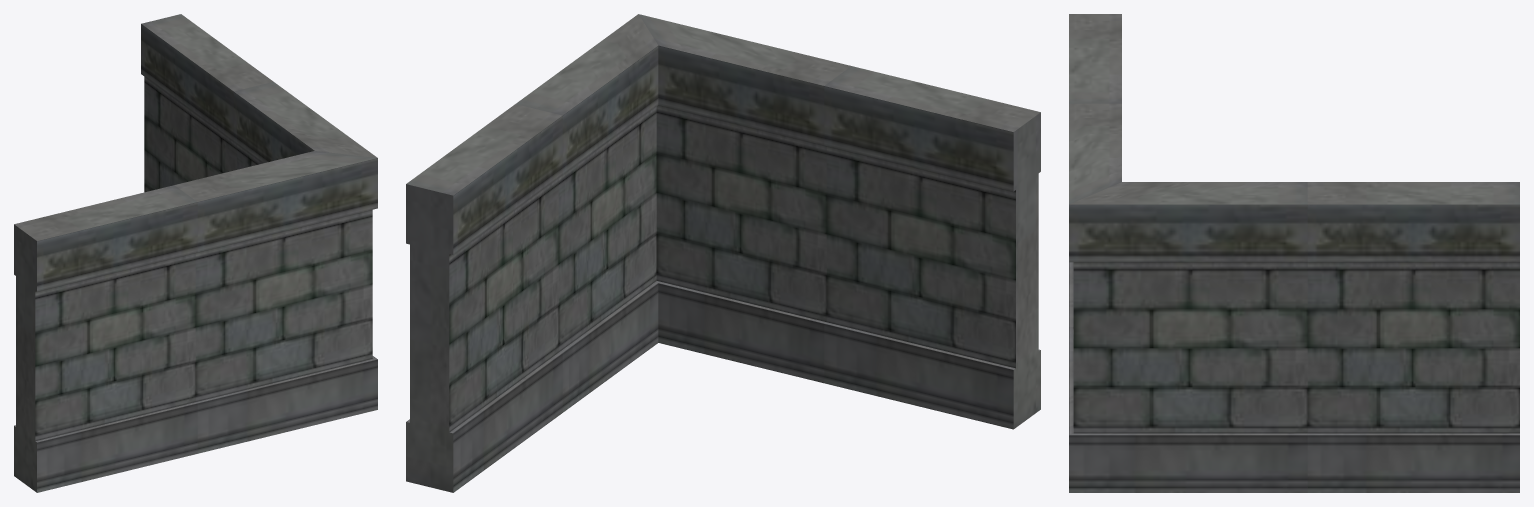
The model's file is sd_wall_large_corner_01.glb.
3 views of the same model, side by side, from view 1: azimuth 30°, elevation 25°; view 2: azimuth 150°, elevation 25°; view 3: azimuth 270°, elevation 25° (orthographic). The views are drawn at different scales.
Parts seen in each view (by area): view 1: wall_large_corner_01; view 2: wall_large_corner_01; view 3: wall_large_corner_01.
Boxes of the visible parts, x1,y1,x2,y2 form: wall_large_corner_01: (14,14,377,492); wall_large_corner_01: (406,14,1040,492); wall_large_corner_01: (1069,14,1519,492).
Bounding box in the file's own units: 4.25 × 3 × 4.25.
Materials: 1 (1 with a texture image).
